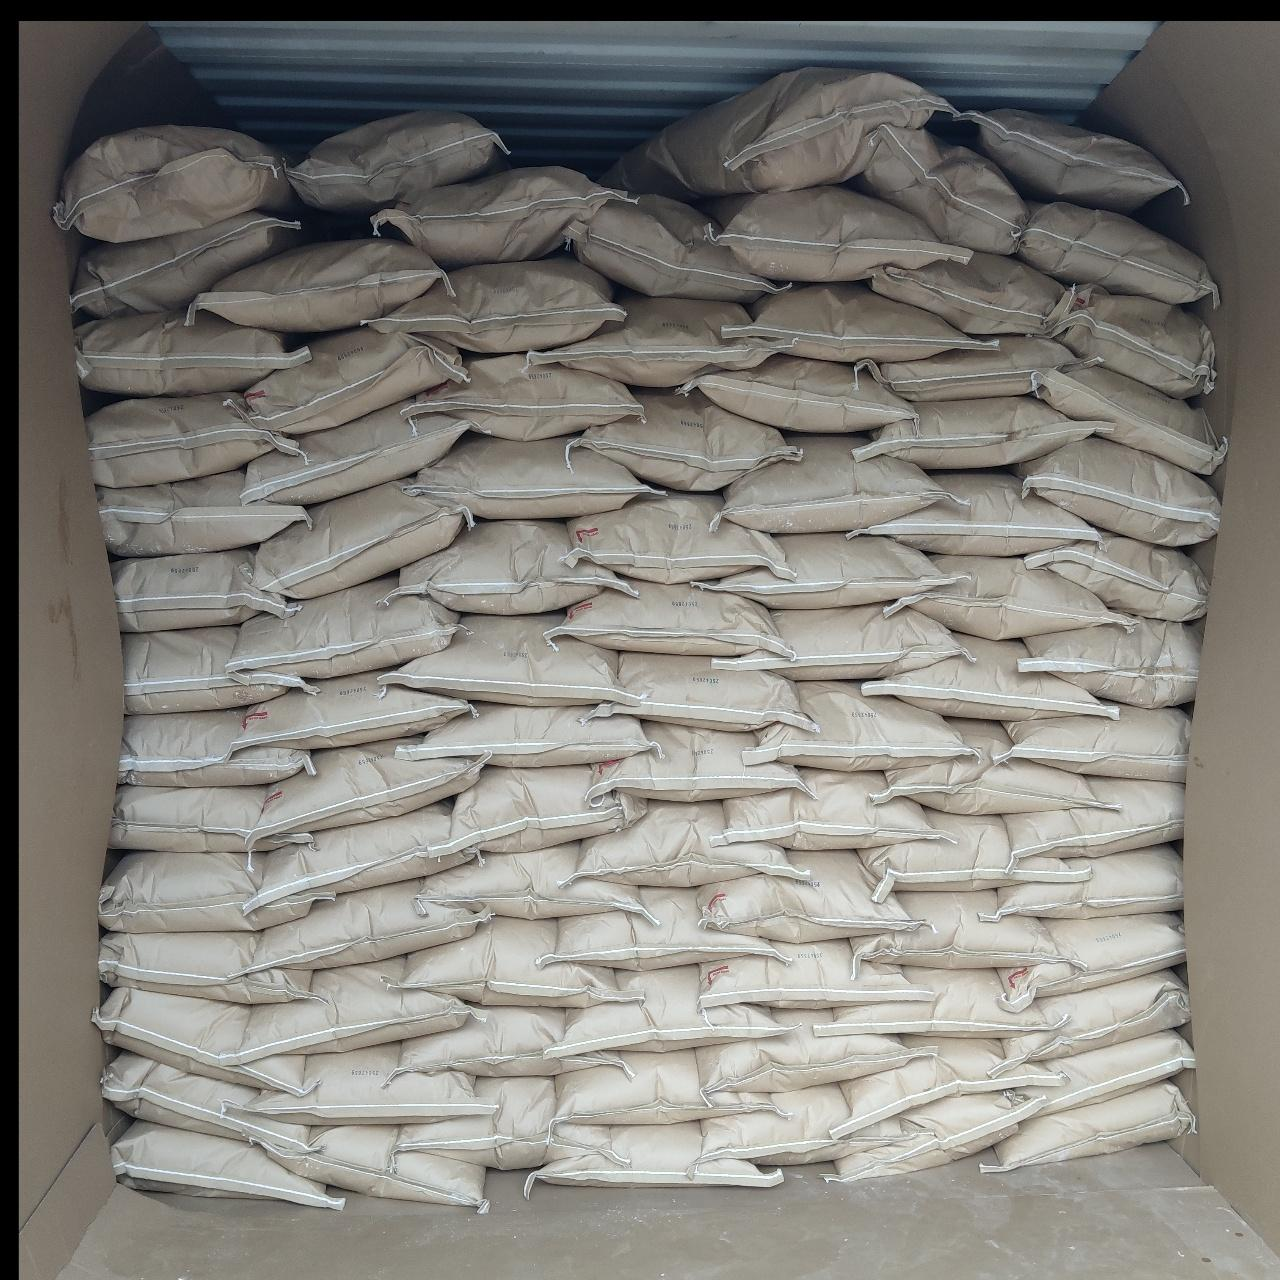sack: (617, 68, 949, 196), (56, 125, 297, 238), (244, 804, 478, 914), (374, 168, 632, 266), (256, 481, 470, 598), (188, 238, 452, 331), (368, 256, 622, 350), (236, 958, 472, 1060), (706, 186, 968, 278), (224, 576, 458, 676), (240, 328, 464, 434), (94, 986, 308, 1094), (527, 294, 779, 386), (566, 196, 787, 300), (286, 110, 510, 212), (72, 216, 302, 314), (872, 720, 1114, 813), (568, 390, 798, 488), (722, 436, 952, 532), (241, 404, 468, 502), (394, 520, 628, 614), (968, 110, 1186, 210), (855, 128, 1026, 254), (1014, 438, 1220, 542), (386, 614, 626, 702), (396, 918, 634, 1006), (866, 634, 1114, 719), (402, 436, 656, 518), (835, 1039, 1054, 1133), (240, 1042, 493, 1124), (104, 1050, 309, 1150), (252, 880, 490, 966), (1034, 365, 1226, 470), (404, 354, 642, 438), (566, 492, 788, 583), (1017, 202, 1216, 302), (260, 740, 478, 830), (888, 556, 1128, 638), (850, 472, 1096, 552), (114, 1121, 342, 1206), (700, 850, 915, 940), (538, 888, 788, 966), (576, 802, 804, 886), (79, 309, 306, 394), (702, 1008, 926, 1094), (90, 394, 297, 486), (862, 810, 1084, 896), (697, 535, 962, 606), (722, 284, 976, 358), (716, 604, 971, 678), (560, 966, 779, 1051), (826, 1092, 1036, 1182), (1050, 286, 1214, 399), (400, 1080, 612, 1166), (986, 1082, 1194, 1170), (753, 682, 971, 765), (680, 354, 915, 430), (234, 674, 470, 750), (856, 396, 1107, 468), (586, 722, 816, 799), (816, 966, 1060, 1039), (274, 1126, 486, 1208), (1000, 971, 1189, 1062), (418, 844, 652, 918), (102, 470, 306, 554), (719, 770, 944, 846), (552, 583, 790, 654), (594, 654, 813, 731), (527, 1122, 779, 1189), (399, 1006, 629, 1078), (100, 852, 324, 926), (1002, 914, 1182, 1005), (442, 768, 644, 847), (870, 252, 1065, 334), (556, 1050, 772, 1124), (852, 892, 1068, 966), (702, 1084, 892, 1166), (1026, 535, 1206, 620), (100, 932, 312, 1005), (400, 704, 652, 765), (1017, 618, 1198, 702), (125, 628, 308, 710), (700, 940, 924, 1006), (983, 844, 1182, 918), (996, 704, 1190, 779), (1010, 1030, 1192, 1110), (1006, 778, 1182, 860), (118, 549, 297, 629), (855, 338, 1084, 399), (122, 710, 309, 782), (113, 787, 309, 852)
